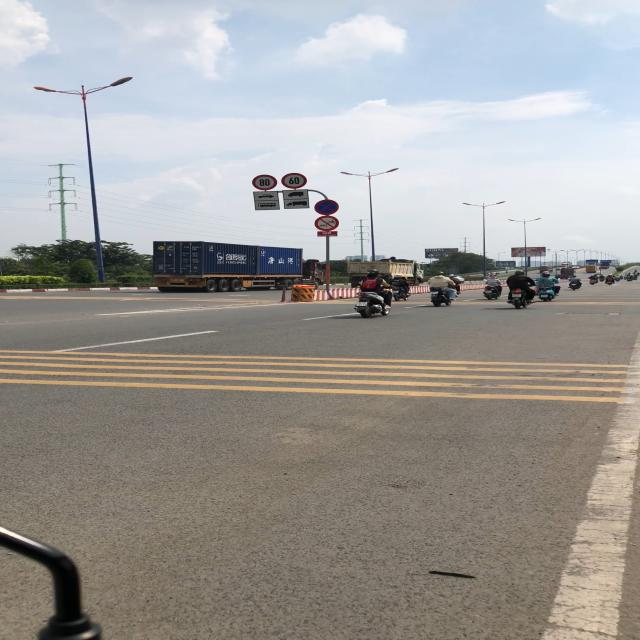Bien bao cam dung xe va do xe: (312, 198, 342, 216)
Bien bao toc do toi da cho phep: (281, 172, 312, 190), (251, 173, 278, 192)
